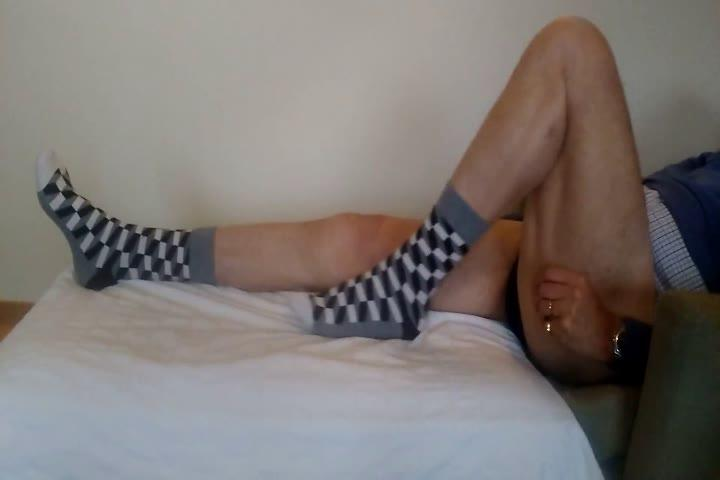lowerbody: (32, 9, 698, 408)
